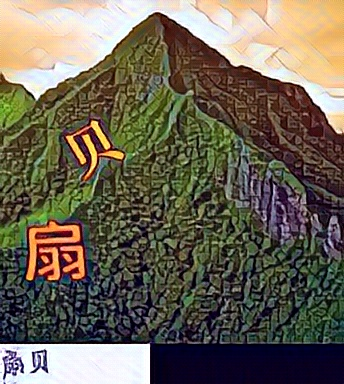B1B4: (65, 118, 129, 184)
C9C8: (23, 217, 87, 283)
